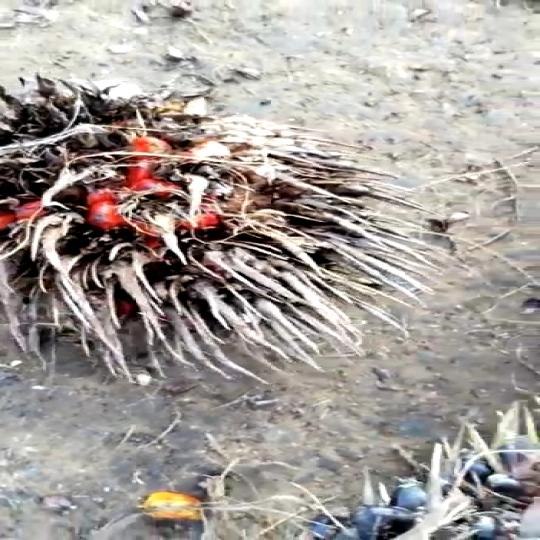terlalu masak: (0, 60, 433, 402)
